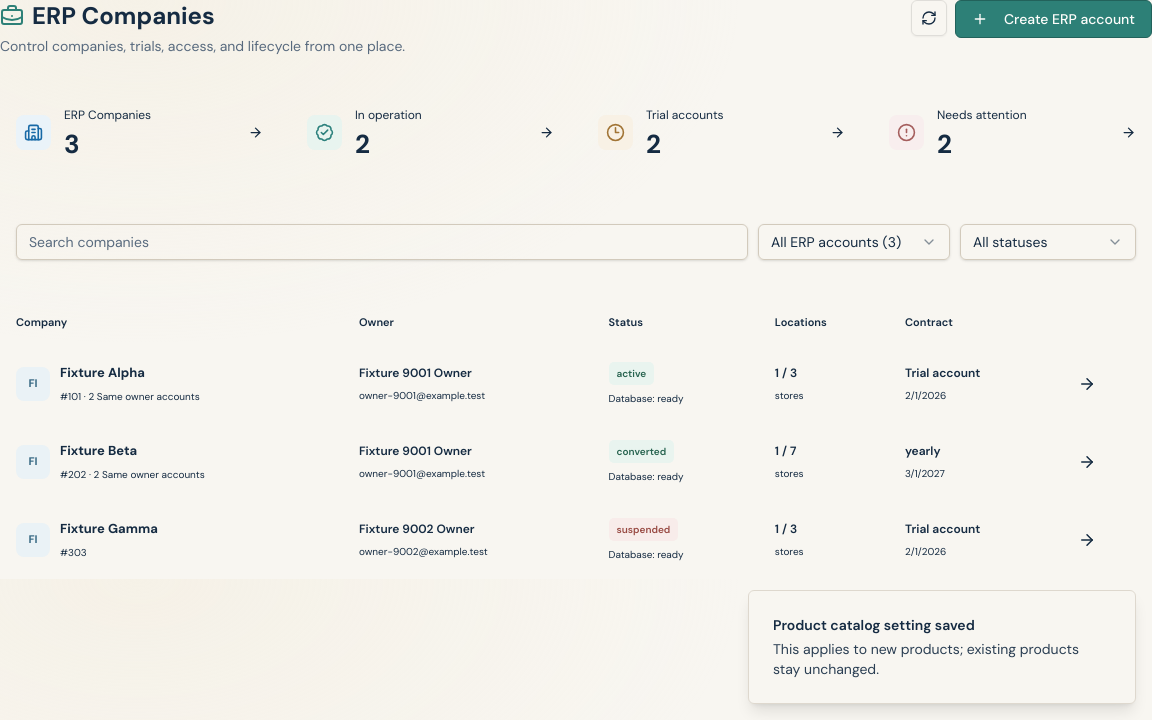
Test case: production ERP company identity (two companies share an owner) › catalog API failure keeps the named confirmation and allows retry without claiming success
Expected: the text "Fixture Alpha" is shown, [60,364,145,381]
Click the button named "Open company: Fixture Alpha" at (1087, 384), box [1072,368,1102,398]
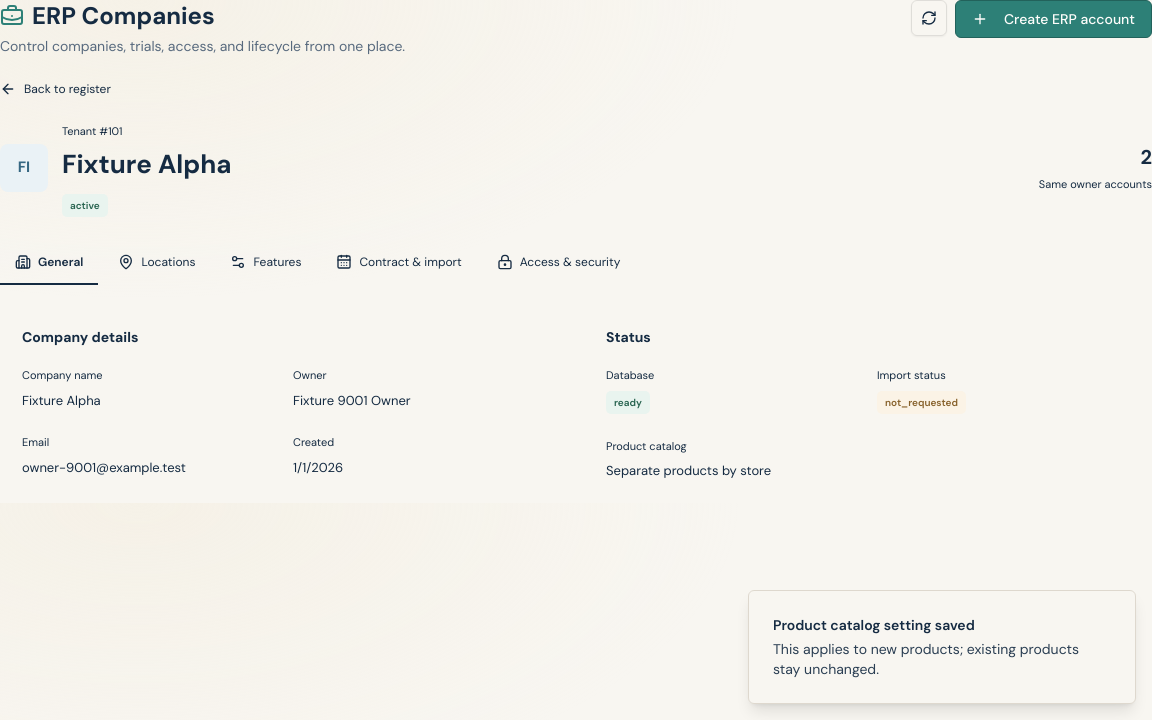
Click the tab "Features" at (266, 263), box [216,241,316,285]
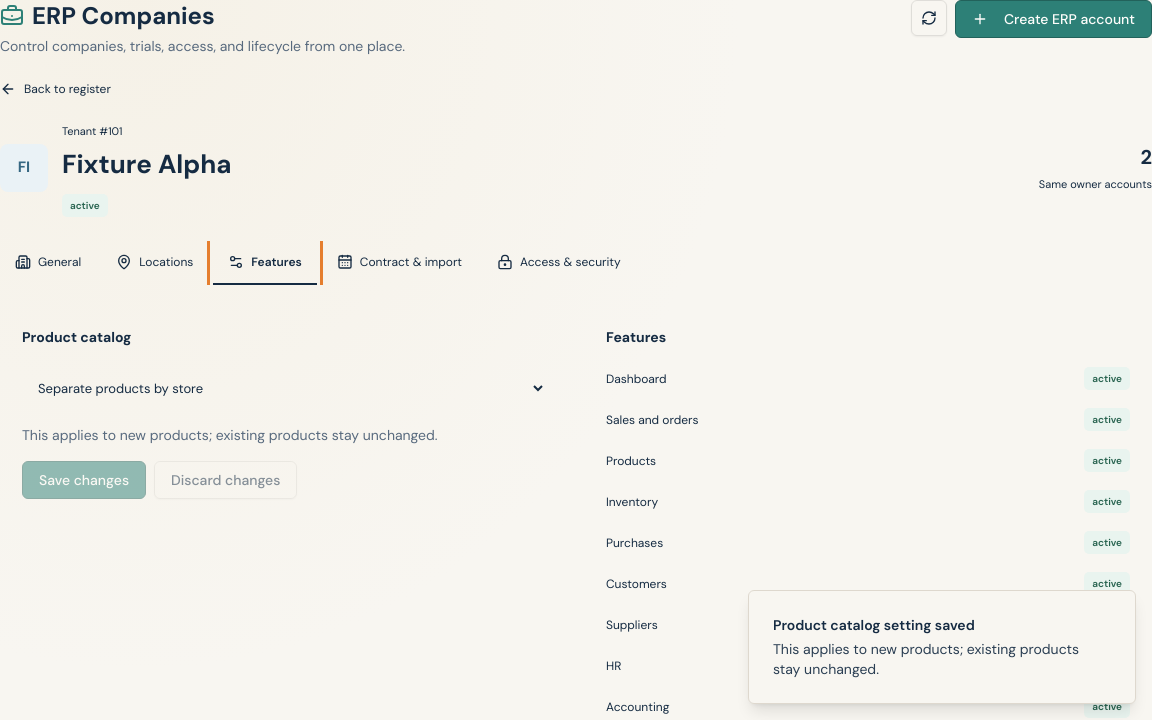
Select "Share products across stores" in the dropdown named "Product catalog" at (284, 388), box [22,367,546,409]
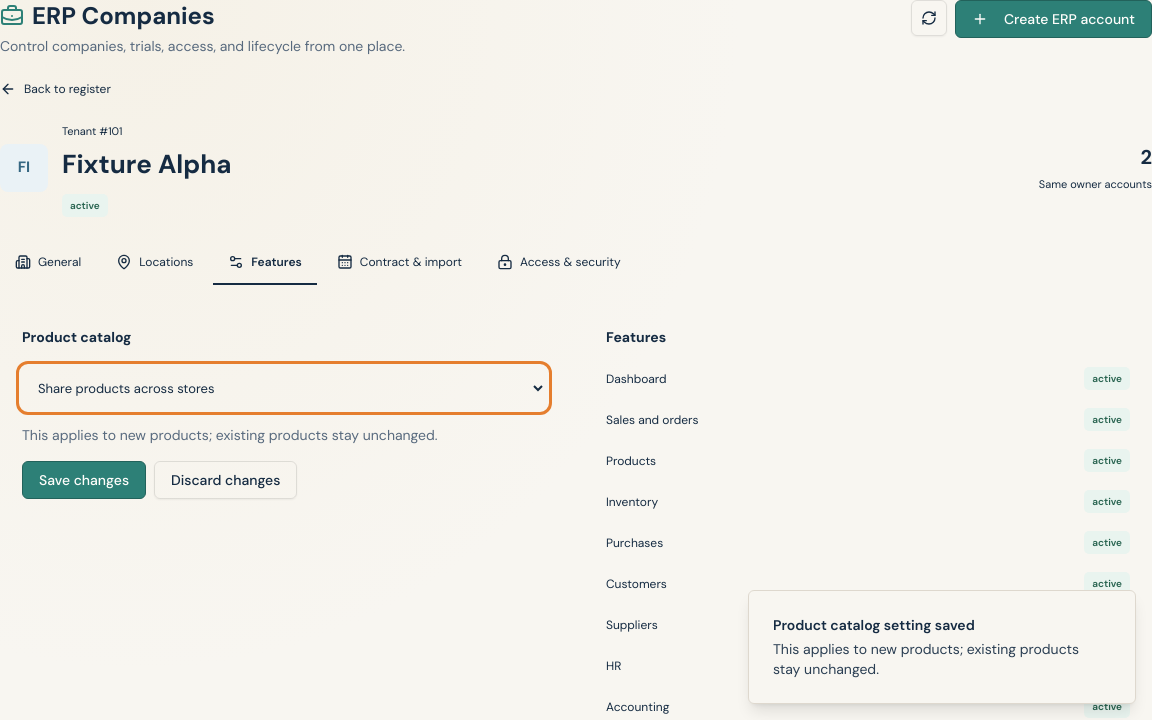
Click the button "Save changes" at (84, 480), box [22,461,146,499]
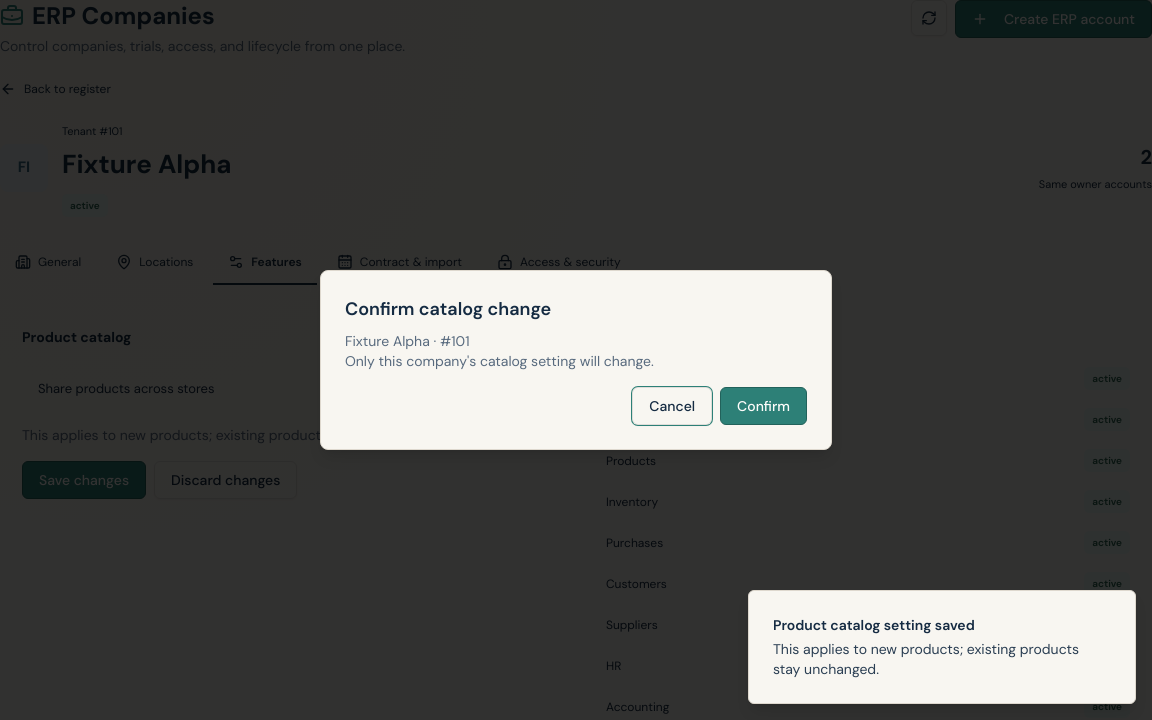
Click the button "Confirm" at (764, 406), box [720,387,807,425]
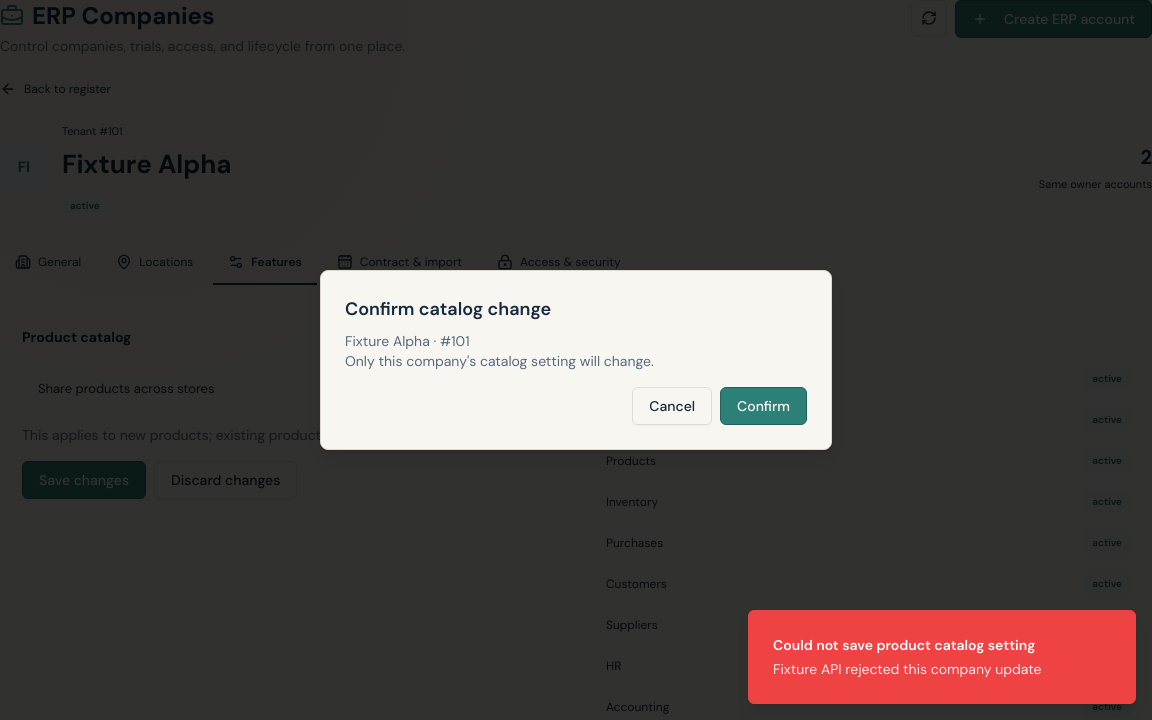
Expected: the dialog shows "Fixture Alpha · #101", [320,270,832,450]
Expected: the text "Could not save product catalog setting" is shown, [773,635,1042,655]
Expected: the text "Product catalog setting saved" is gone
Click the button "Confirm" at (764, 406), box [720,387,807,425]
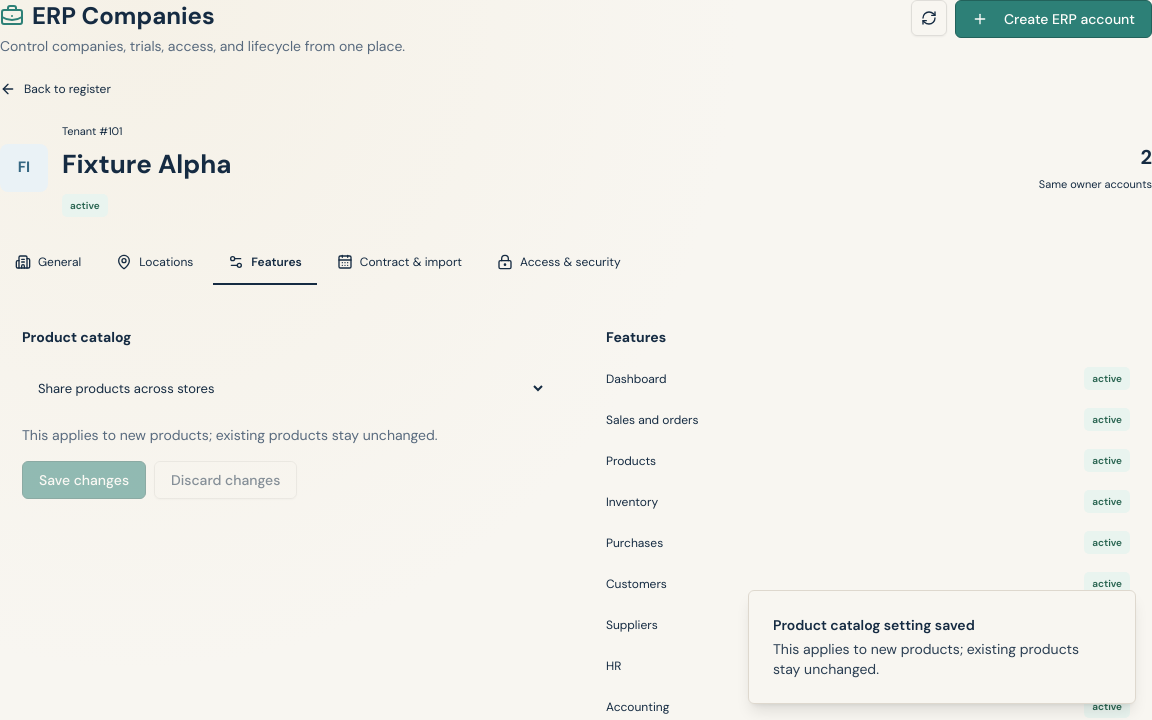
Expected: the text "Product catalog setting saved" is shown, [773,616,975,634]
